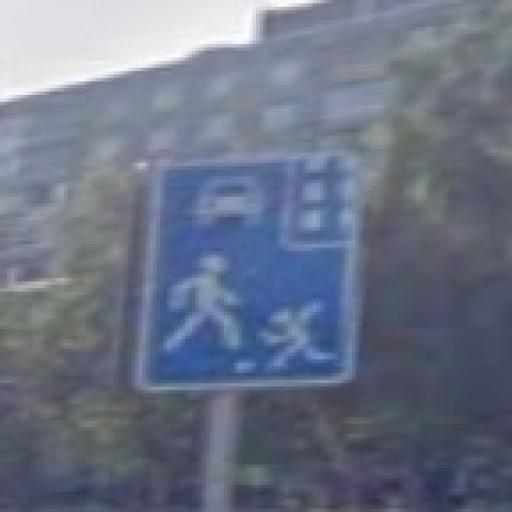traffic_sign: (133, 147, 367, 394)
